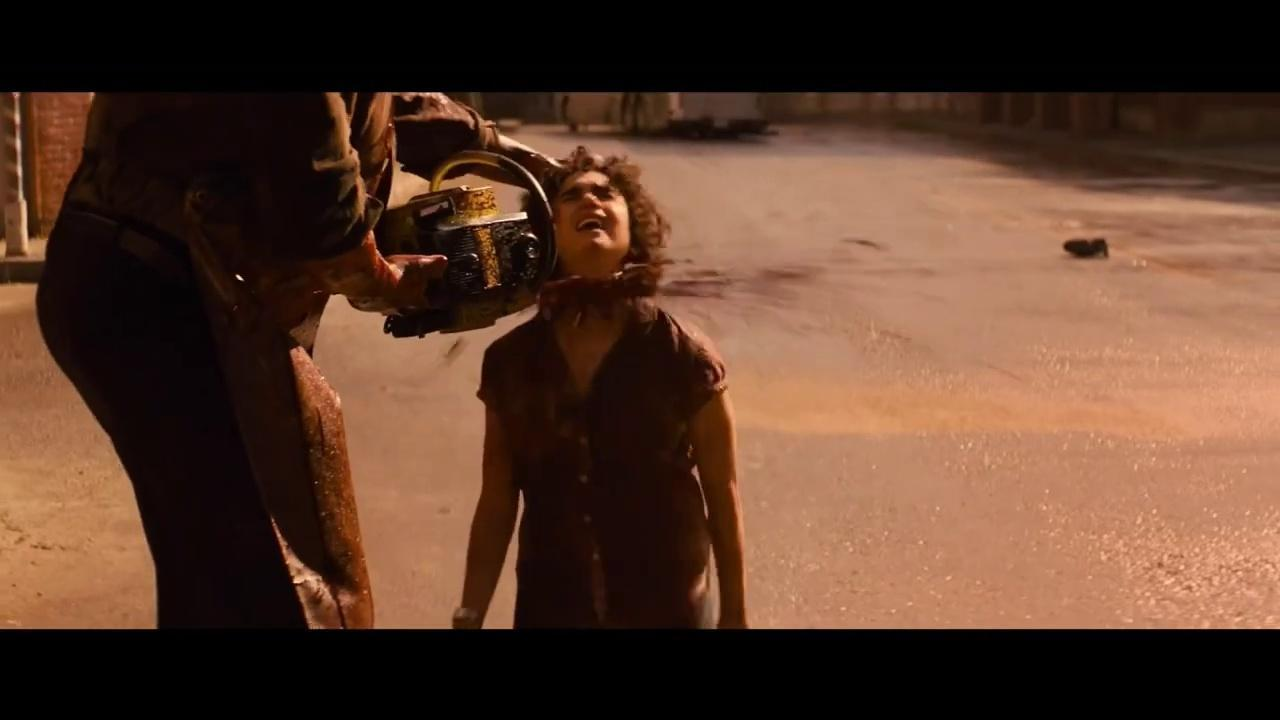Fire: (291, 361, 374, 629), (552, 260, 900, 313), (448, 188, 544, 307), (357, 100, 490, 180), (311, 242, 425, 313)
